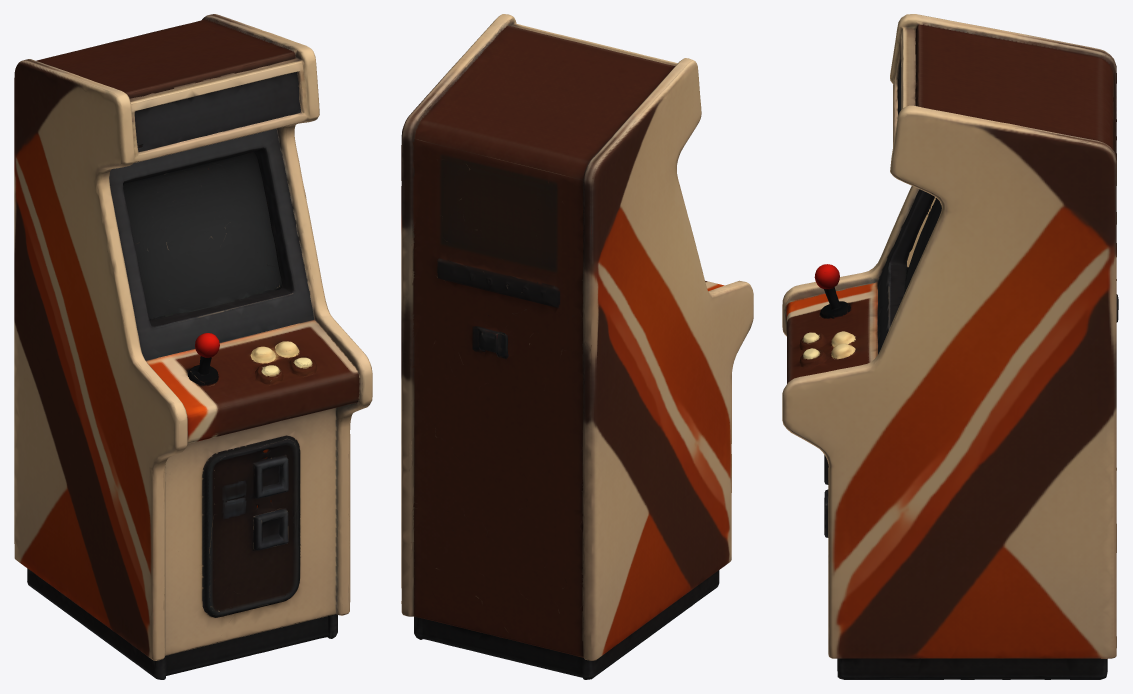
File: 07_arcade_07_upright_neon_cream.glb
3 renders of one model, left to right at view 1: azimuth 30°, elevation 25°; view 2: azimuth 150°, elevation 25°; view 3: azimuth 270°, elevation 25°, orthographic. The views are drawn at different scales.
Visible parts, largest first — view 1: world; view 2: world; view 3: world.
Boxes of the visible parts, x1=… form: world: x1=14, y1=14, x2=372, y2=679; world: x1=401, y1=14, x2=753, y2=679; world: x1=782, y1=14, x2=1118, y2=679.
Size of the model in its own units: 0.3701 by 1 by 0.5319.
1 material, 1 textured.
